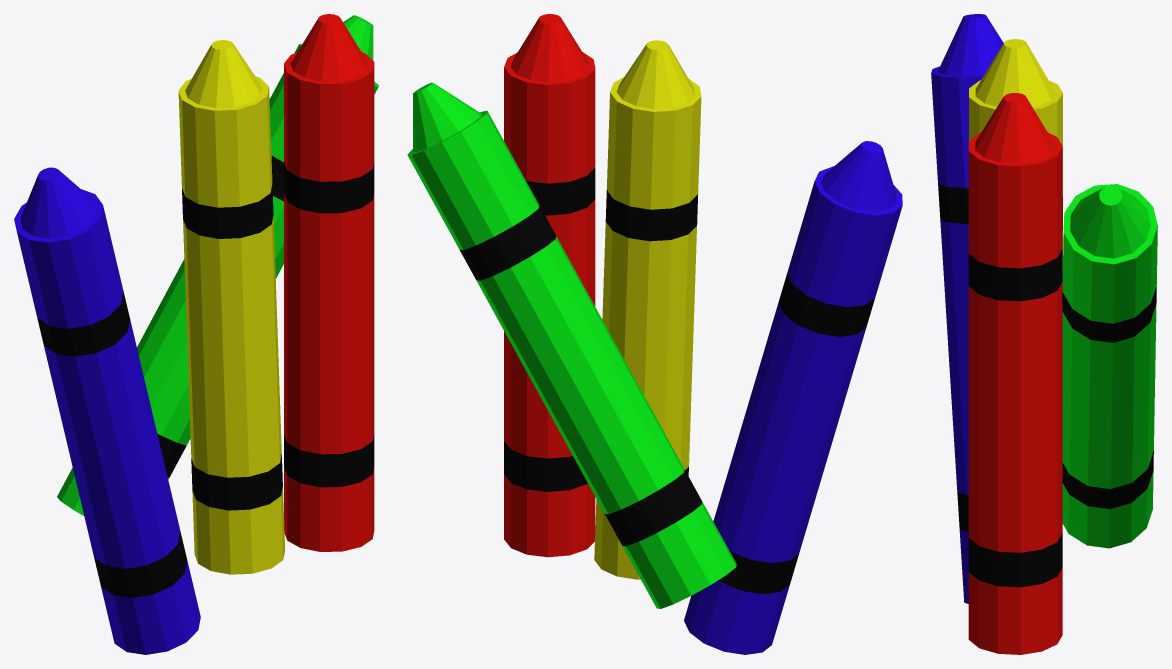
Rendered from crayolas.fbx.
3 renders of one model, left to right at view 1: azimuth 30°, elevation 25°; view 2: azimuth 150°, elevation 25°; view 3: azimuth 270°, elevation 25°, orthographic. The views are drawn at different scales.
Parts seen in each view (by area): view 1: Cylinder.002; view 2: Cylinder.002; view 3: Cylinder.002.
Boxes of the visible parts, x1,y1,x2,y2 form: Cylinder.002: [14, 14, 378, 654]; Cylinder.002: [407, 14, 902, 654]; Cylinder.002: [931, 14, 1157, 654].
Bounding box in the file's own units: 1049 × 1391 × 475.
